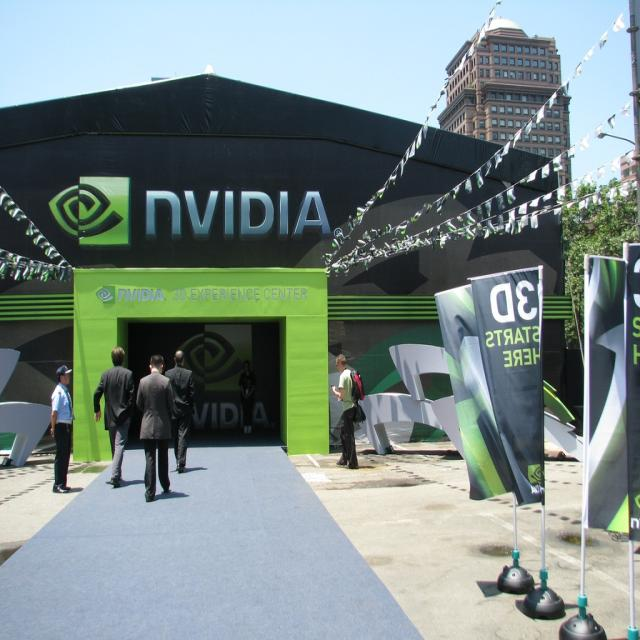nvidia: (49, 177, 131, 246), (96, 285, 118, 305), (528, 461, 545, 484)
